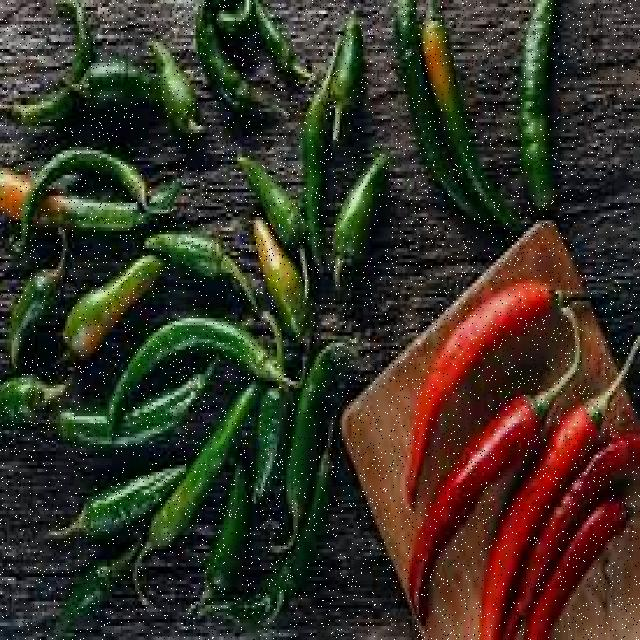Chili Pepper: (454, 392, 639, 640), (384, 248, 566, 480), (388, 0, 522, 245), (0, 142, 171, 224), (47, 264, 203, 350), (40, 373, 232, 438), (16, 535, 134, 640), (131, 0, 214, 149), (509, 21, 574, 207), (32, 472, 190, 546), (233, 202, 322, 328), (333, 108, 383, 295), (242, 140, 310, 258), (309, 26, 373, 149), (205, 484, 254, 624), (150, 212, 240, 286)
